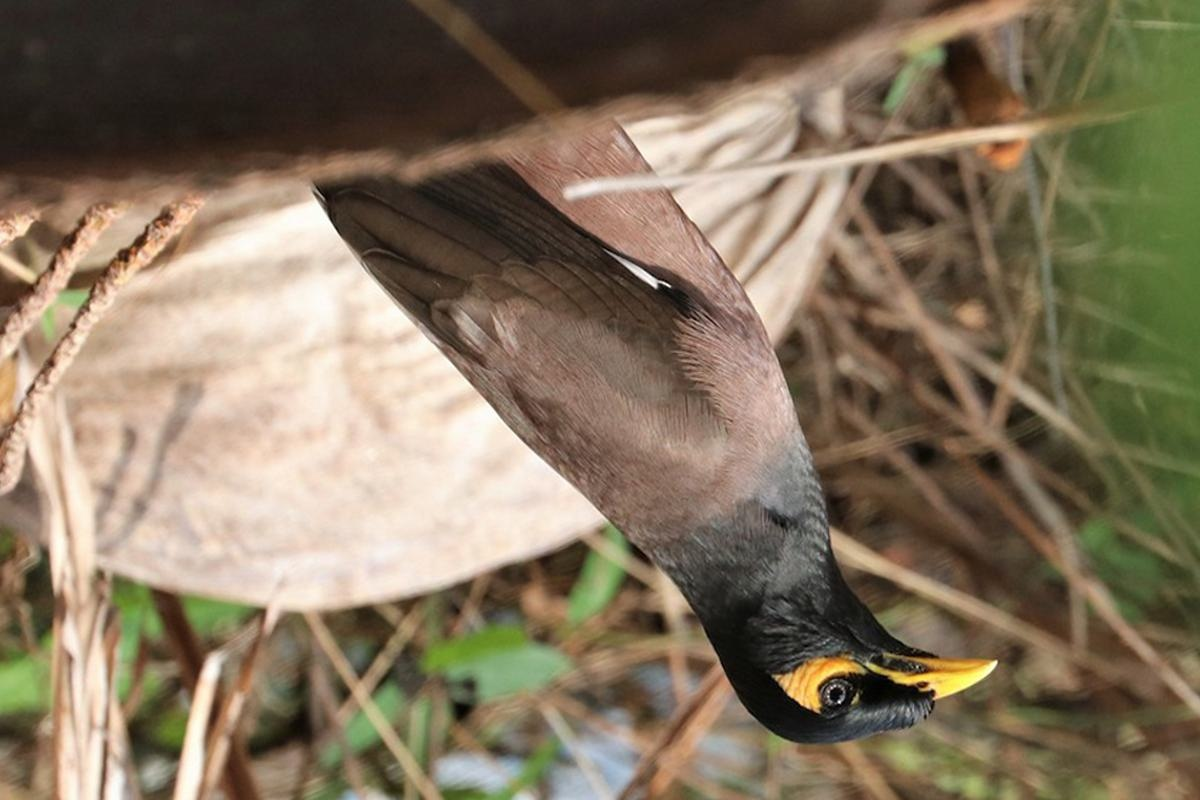myna: (450, 85, 1000, 753)
